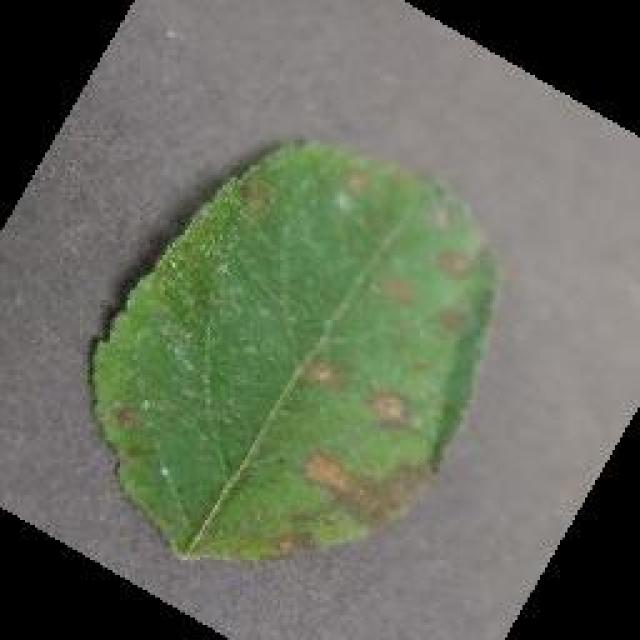apple healthy: (85, 135, 500, 563)
